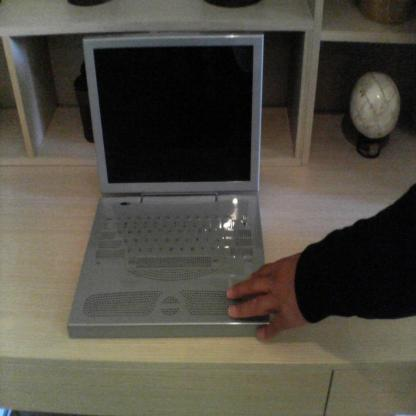board: (67, 28, 266, 338), (350, 71, 401, 139)
